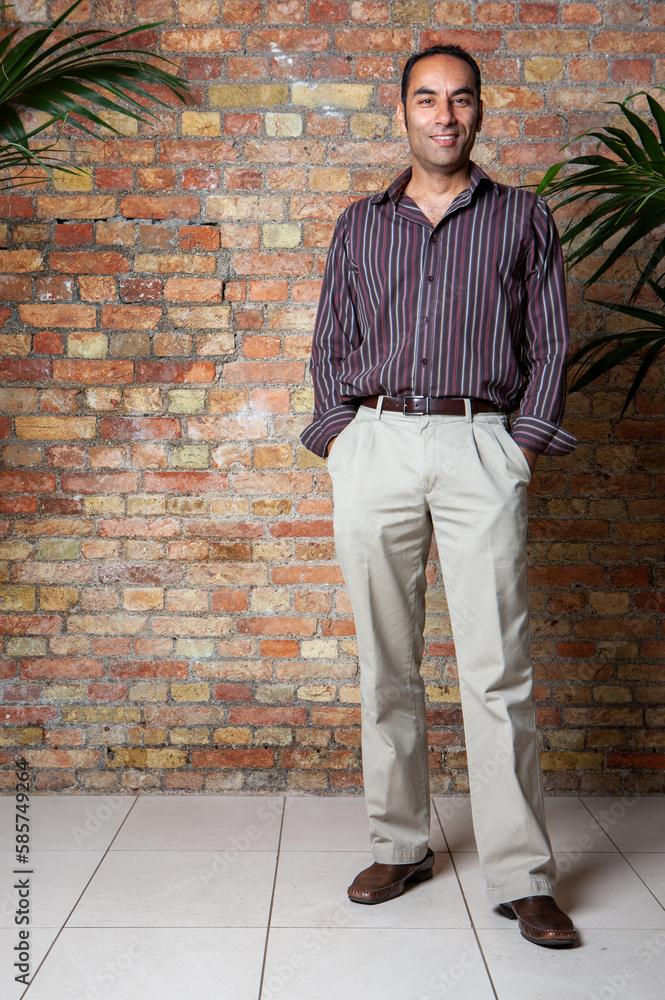Human: (264, 28, 625, 1000)
